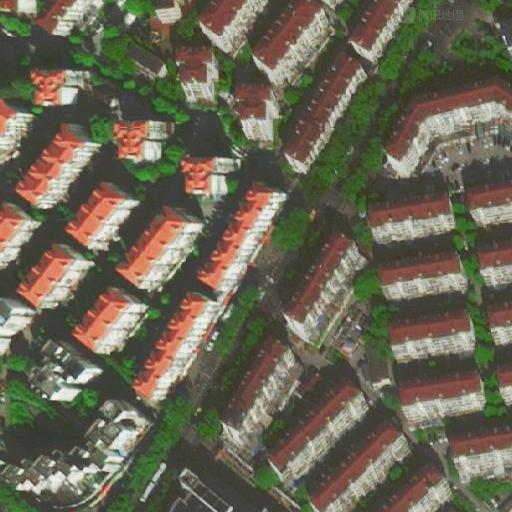building: (6, 396, 146, 501), (385, 89, 511, 176), (284, 52, 368, 171), (197, 187, 286, 298), (269, 384, 371, 477), (134, 294, 219, 400), (220, 337, 303, 445), (284, 232, 365, 339), (310, 425, 410, 511), (113, 205, 200, 294), (17, 125, 104, 212), (249, 2, 332, 77), (73, 284, 145, 354), (67, 181, 135, 249), (29, 336, 98, 402), (19, 245, 84, 312), (367, 463, 455, 511), (349, 1, 410, 59), (382, 255, 469, 294), (163, 467, 239, 511), (400, 375, 483, 414), (0, 197, 39, 279), (0, 91, 39, 173), (370, 198, 453, 236), (391, 316, 476, 352), (36, 2, 98, 37), (320, 295, 363, 345), (451, 436, 512, 471), (34, 69, 93, 105), (118, 123, 167, 163), (233, 83, 274, 130), (184, 163, 230, 198), (121, 41, 165, 77), (181, 52, 218, 93), (87, 73, 126, 111), (469, 186, 512, 219), (293, 364, 330, 402), (0, 32, 34, 63), (480, 248, 512, 279), (488, 307, 512, 335), (495, 370, 512, 406), (492, 493, 512, 512)
